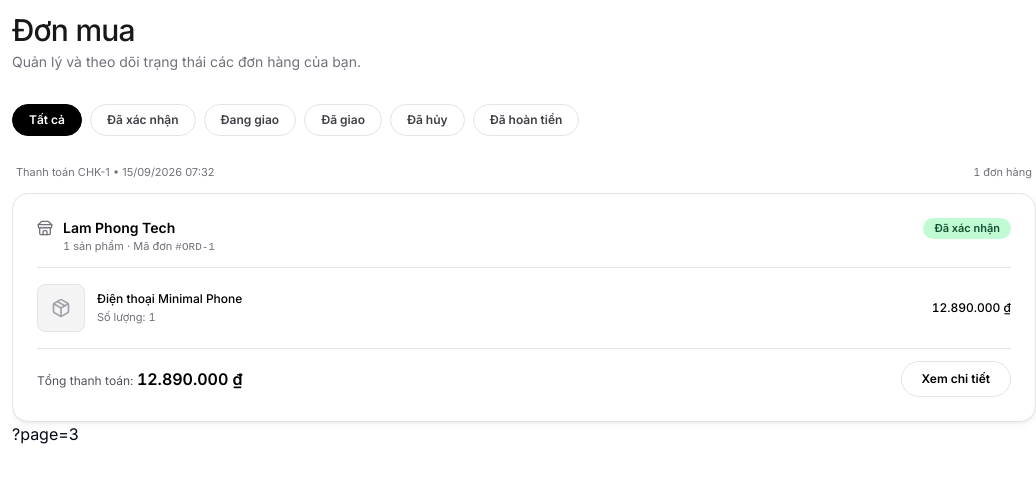
Test: OrderHistoryPage › writes the chosen tab to the URL and resets the page
The image size is (1036, 483).
Click the button "Đang giao". click: {"x": 250, "y": 120}
box: 204,104 -> 296,136
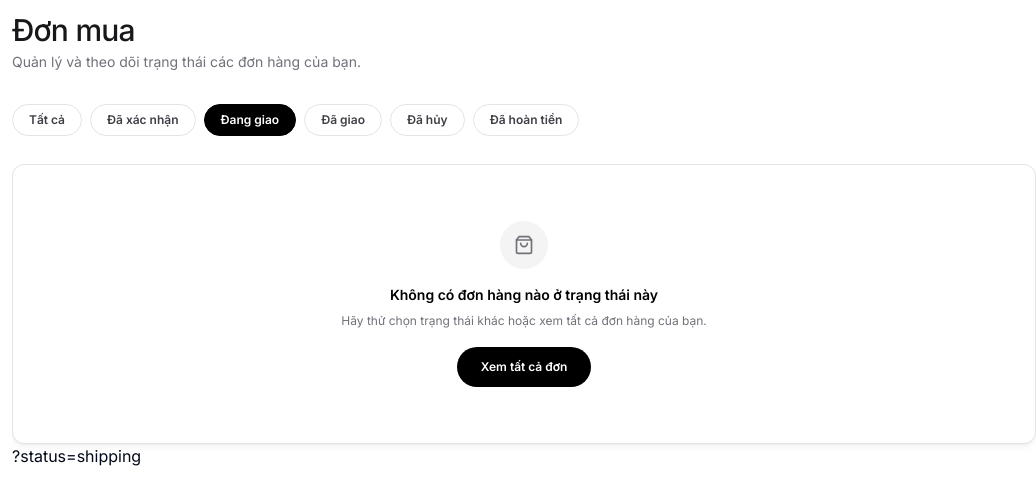
Check: the text with test id "where" reads "?status=shipping", box 12,446 -> 141,466
Check: the text with test id "where" no longer shows "page"
